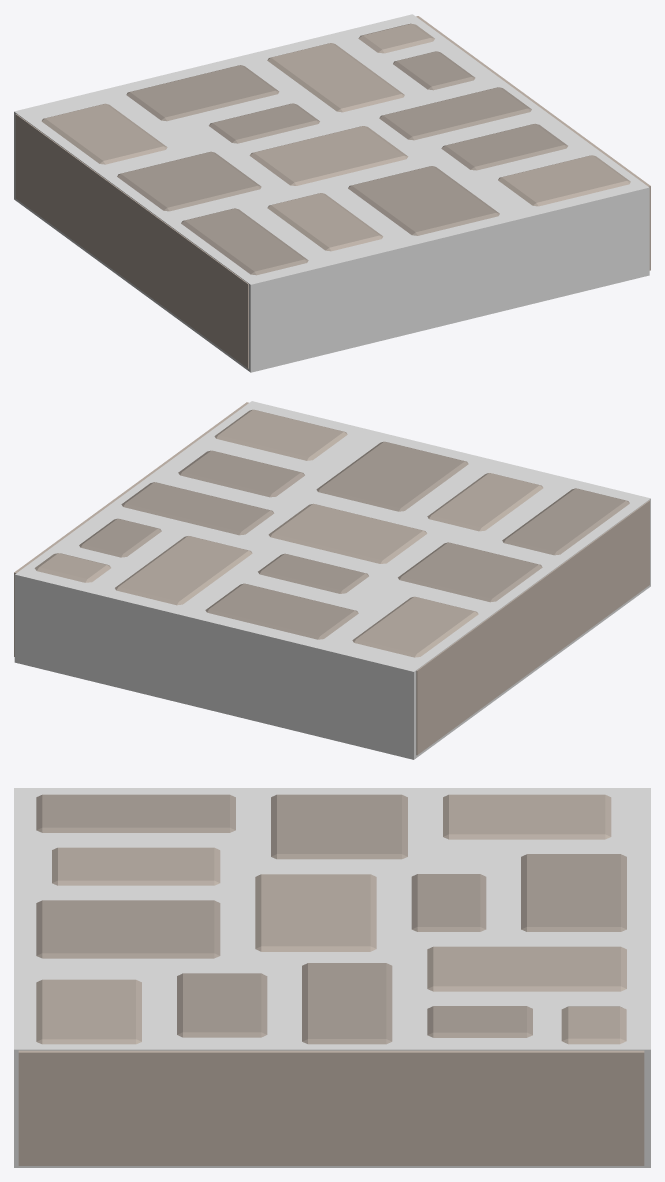
Rendered from modular_village_stone_floor_1.glb.
3 views of the same model, one above another, from view 1: azimuth 30°, elevation 25°; view 2: azimuth 150°, elevation 25°; view 3: azimuth 270°, elevation 25° (orthographic). The views are drawn at different scales.
Visible parts, largest first — view 1: Cube, object1; view 2: Cube, object1; view 3: object1, Cube.
Boxes of the visible parts, x1,y1,x2,y2 form: Cube: [14, 14, 649, 372]; object1: [15, 16, 650, 368]; Cube: [14, 401, 650, 759]; object1: [14, 402, 649, 755]; object1: [18, 794, 644, 1165]; Cube: [14, 788, 650, 1167].
Size of the model in its own units: 1 by 0.2134 by 1.02.
